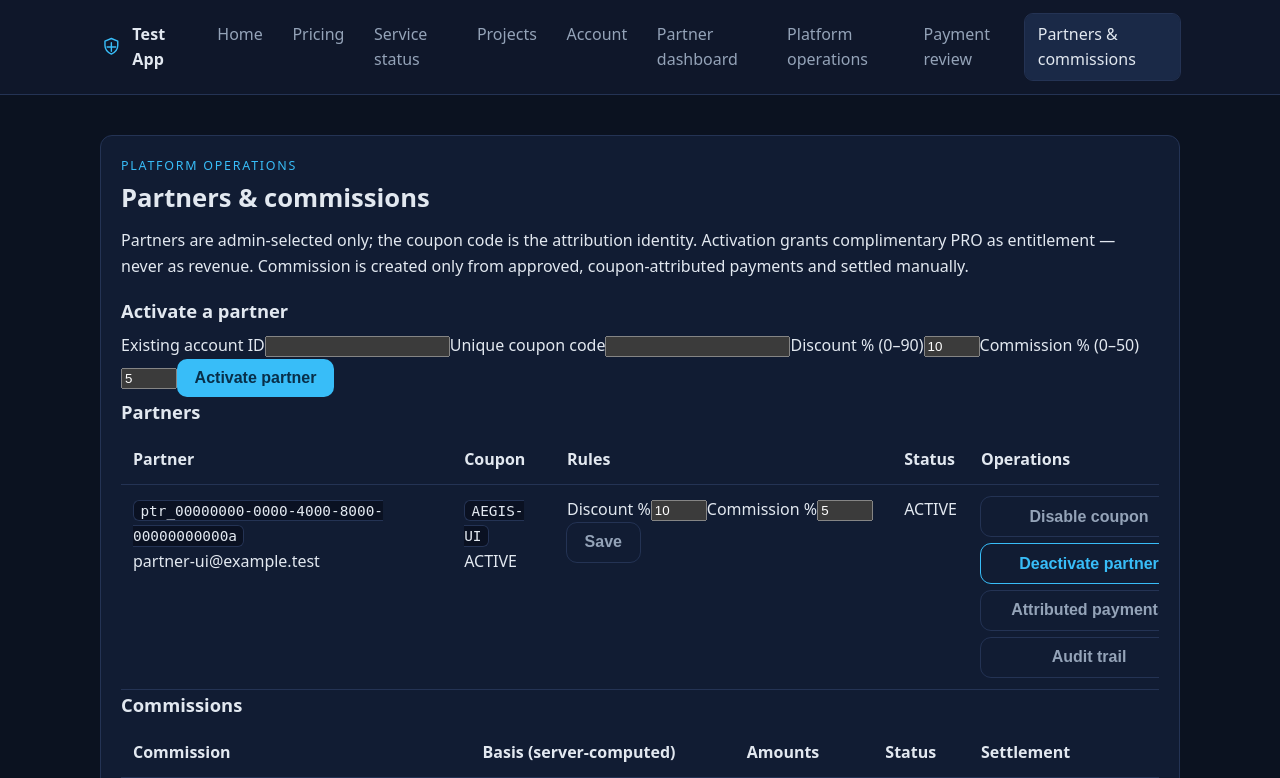
Test case: admin partners & commissions console › activation form sends exactly the typed server-validated fields
Type "usr_new_partner" into the field labelled "Existing account ID" at {"x": 357, "y": 347}, box [265,336,450,357]
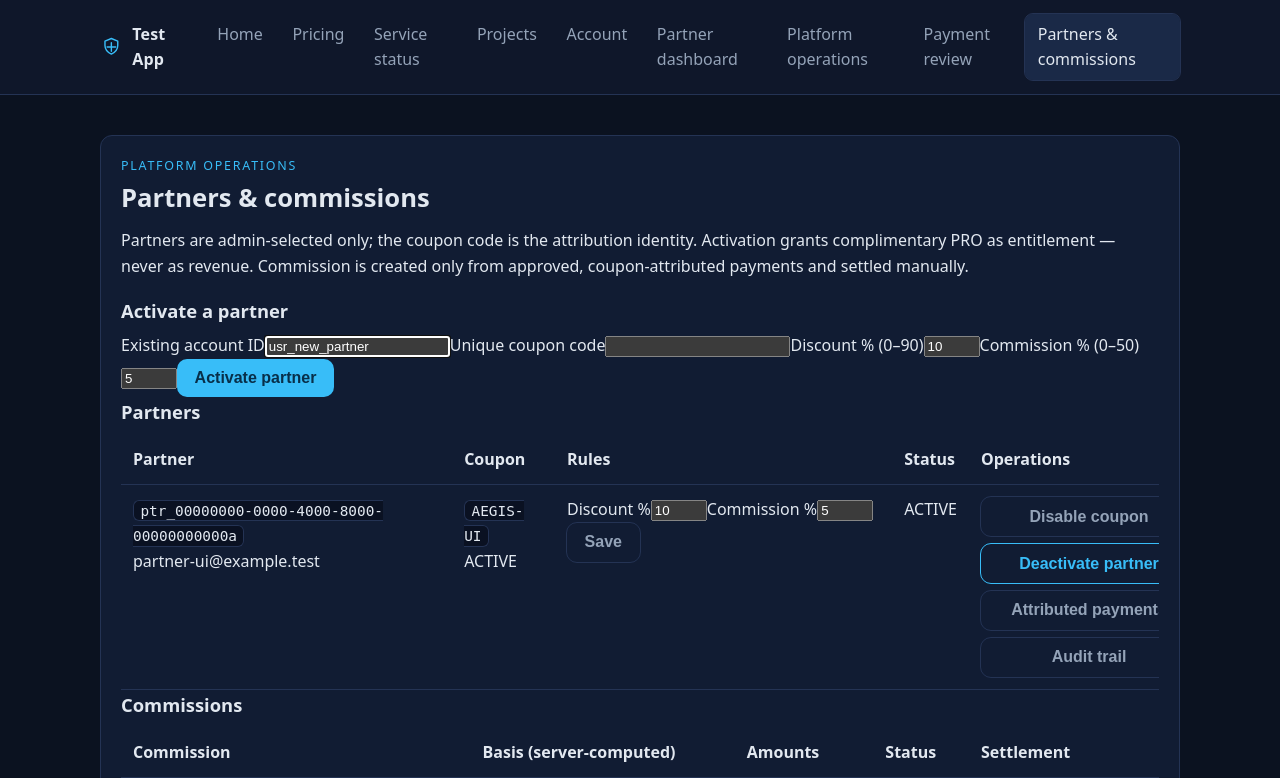
Type "AEGIS-NEW" into the field labelled "Unique coupon code" at {"x": 698, "y": 347}, box [606,336,790,357]
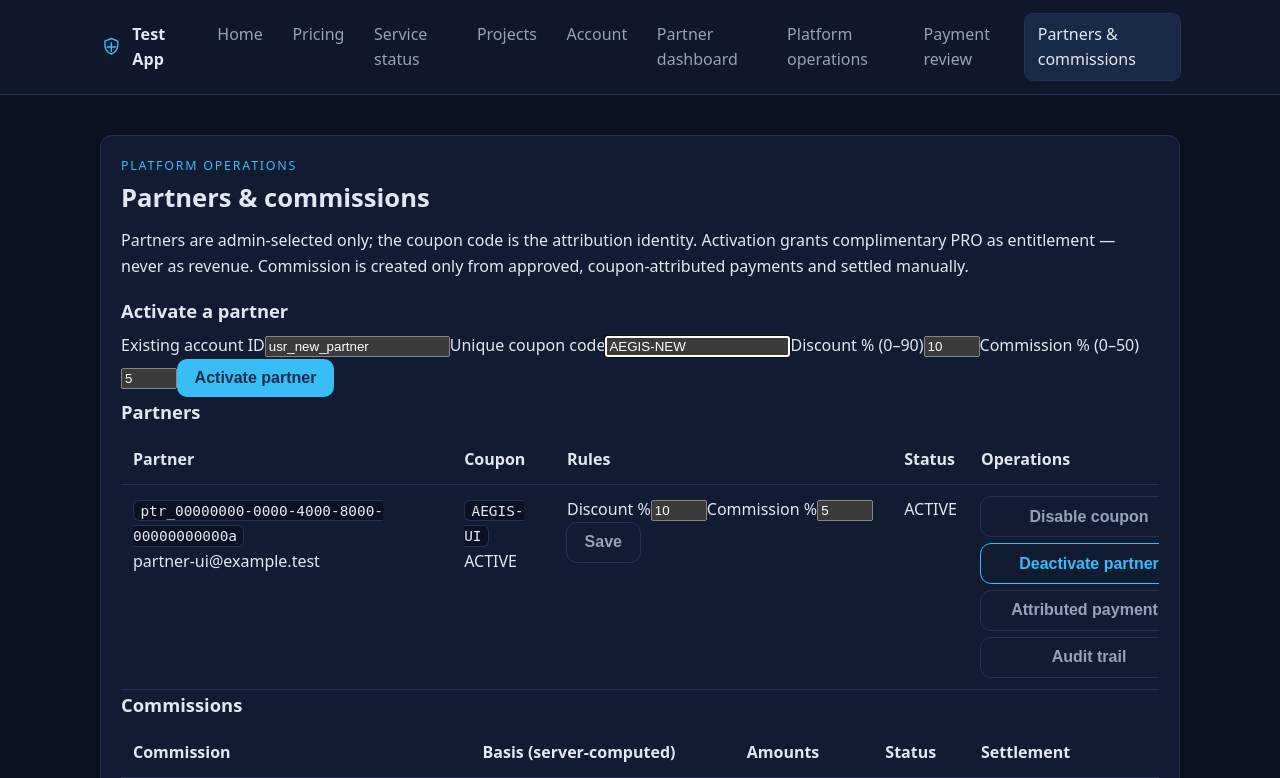
Click the button "Activate partner" at {"x": 256, "y": 378}, box [177,359,334,398]
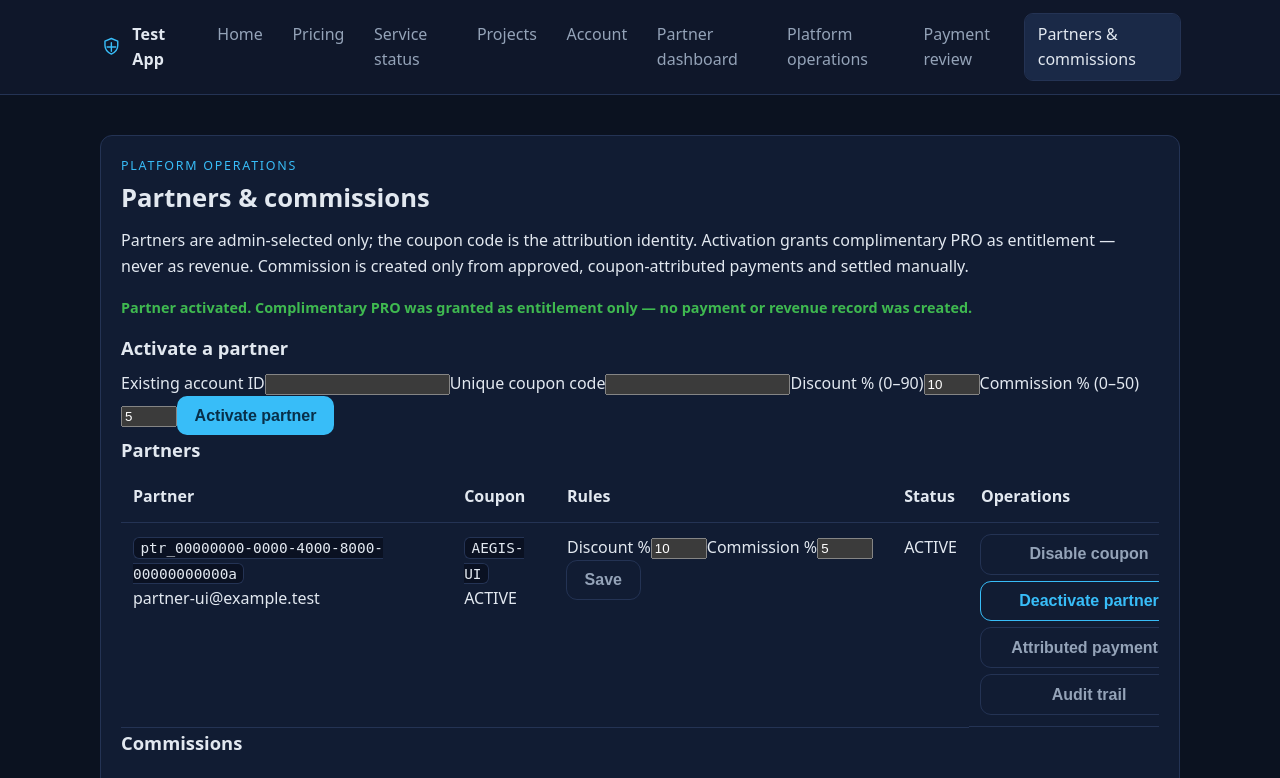
expect the message with test id "partner-notice" shows "entitlement only": met, box [121,298,972,317]
